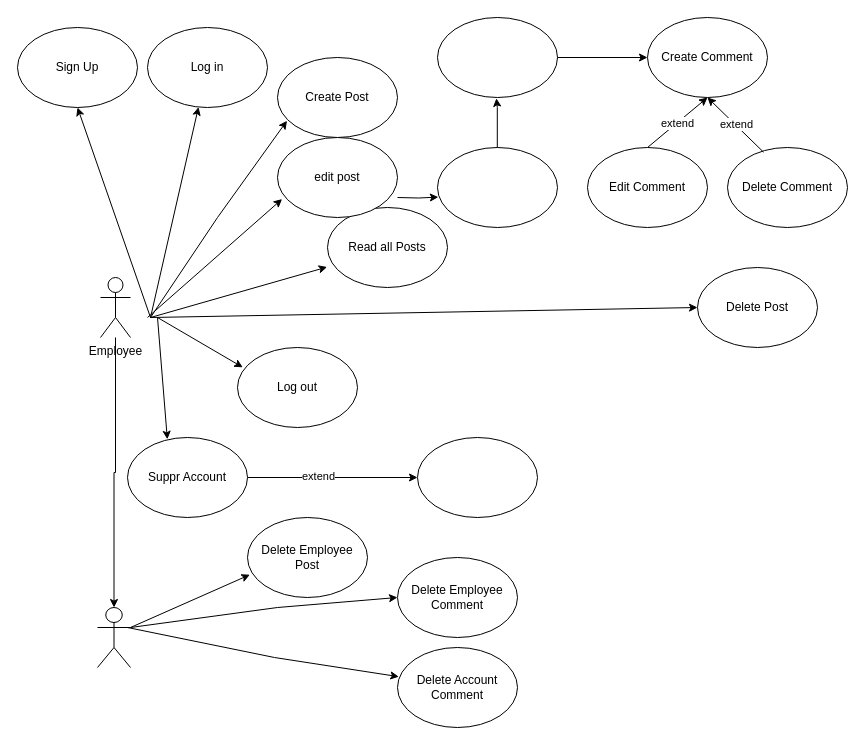
This 865x745 diagram has some shape labels left out. The box of each missing label's shape, as (x1, y1, x2, y2) in pixels:
Moderator: (96, 606, 130, 668)
Read all Comments: (436, 16, 558, 98)
Read Post: (436, 146, 558, 228)
Suppr data: (416, 436, 538, 518)
